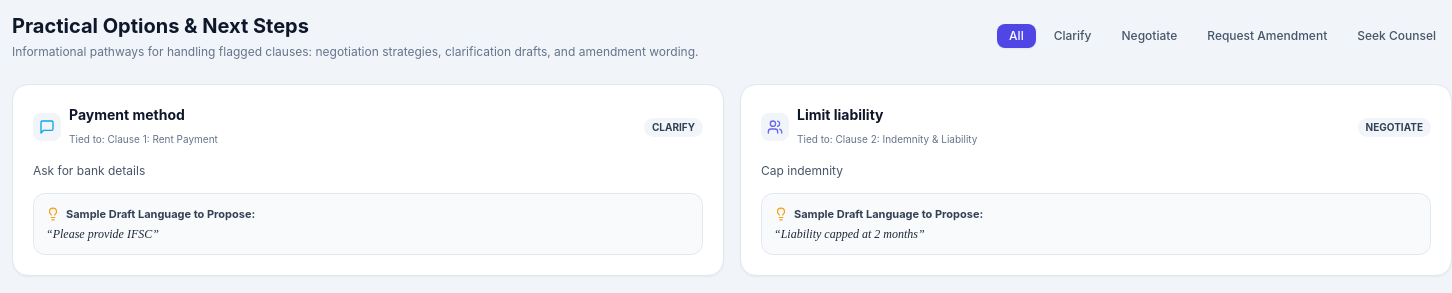
Test: Parameter 4 & 5 — Component & Accessibility Tests (18 tests) › 15. OptionsView filters actionable pathways by category and shows sample wording
Expected: the heading "Practical Options & Next Steps" is shown, [12,14,309,38]
Expected: the heading "Payment method" is shown, [69,106,185,123]
What coordinates should you click on to do the following:
click the button "negotiate"
I would click on:
 (1149, 36)
Its box is [1110,24,1189,48].
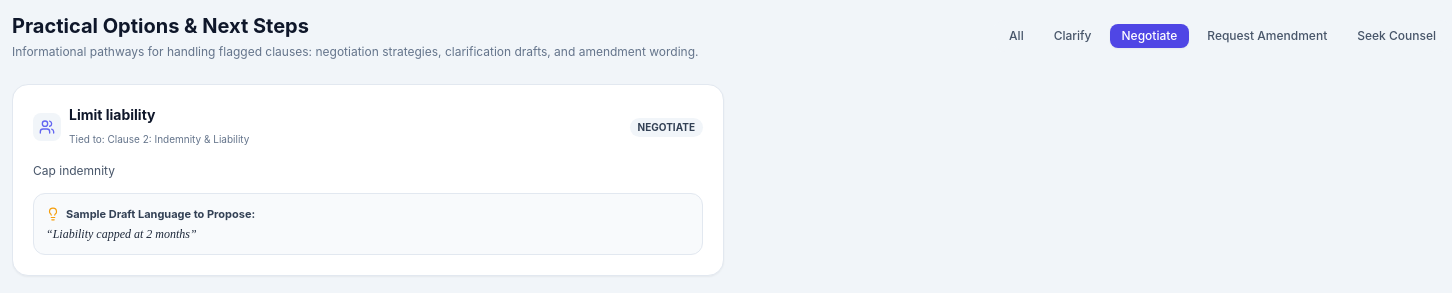
Expected: the heading "Limit liability" is shown, [69,106,156,123]
Now the heading "Payment method" is gone
